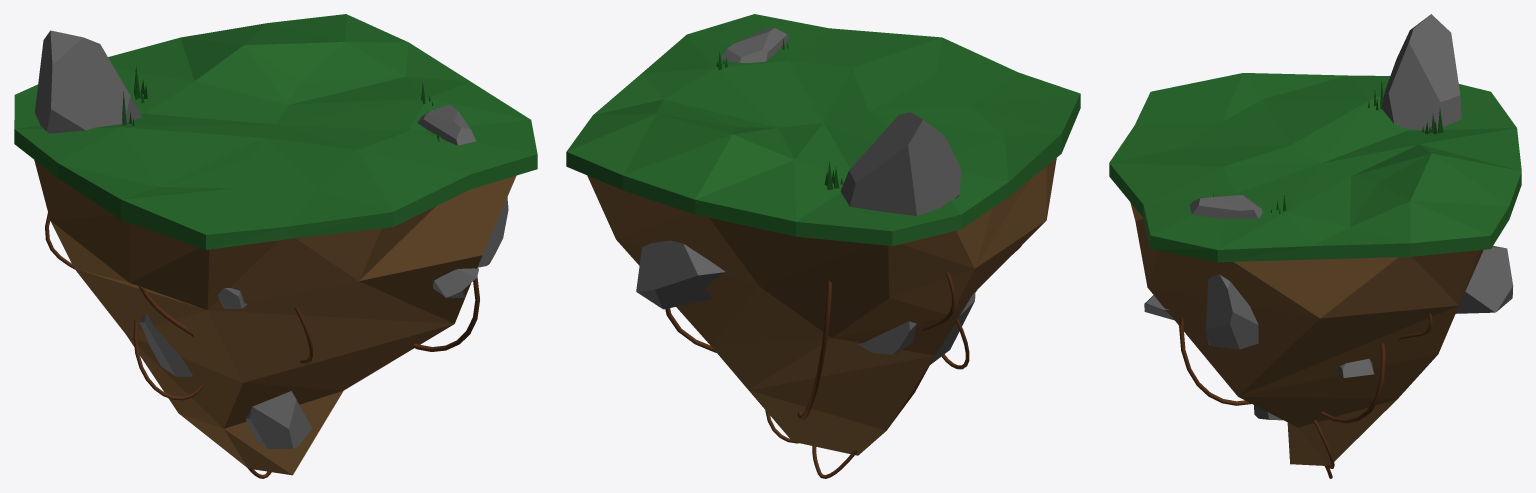
The model's file is island.fbx.
3 views of the same model, side by side, from view 1: azimuth 30°, elevation 25°; view 2: azimuth 150°, elevation 25°; view 3: azimuth 270°, elevation 25° (orthographic). The views are drawn at different scales.
Visible parts, largest first — view 1: Island, Rock6, Rock8, Rock2, Rock3, Rock4, Rock9, Root 6, Root 10; view 2: Island, Rock6, Rock1, Rock2, Rock5, Root 9, Rock3; view 3: Island, Rock6, Rock9, Rock1, Rock2, Root 7, Root 6, Rock10.
Part boxes in pixels (left/top/right/bottom): Island: left=14, top=14, right=537, bottom=475; Rock6: left=35, top=30, right=142, bottom=133; Rock8: left=246, top=391, right=312, bottom=448; Rock2: left=417, top=104, right=475, bottom=145; Rock3: left=139, top=313, right=192, bottom=376; Rock4: left=433, top=267, right=478, bottom=297; Rock9: left=477, top=197, right=508, bottom=267; Root 6: left=411, top=276, right=479, bottom=351; Root 10: left=133, top=320, right=203, bottom=400; Island: left=566, top=14, right=1080, bottom=455; Rock6: left=840, top=112, right=961, bottom=216; Rock1: left=636, top=240, right=725, bottom=309; Rock2: left=721, top=28, right=789, bottom=62; Rock5: left=858, top=321, right=916, bottom=354; Root 9: left=797, top=281, right=831, bottom=420; Rock3: left=930, top=292, right=975, bottom=364; Island: left=1109, top=73, right=1521, bottom=465; Rock6: left=1382, top=14, right=1461, bottom=130; Rock9: left=1206, top=274, right=1258, bottom=349; Rock1: left=1455, top=246, right=1513, bottom=313; Rock2: left=1189, top=195, right=1262, bottom=218; Root 7: left=1320, top=343, right=1385, bottom=423; Root 6: left=1179, top=317, right=1250, bottom=405; Rock10: left=1335, top=358, right=1374, bottom=377.
Size of the model in its own units: 184 by 195 by 185.
